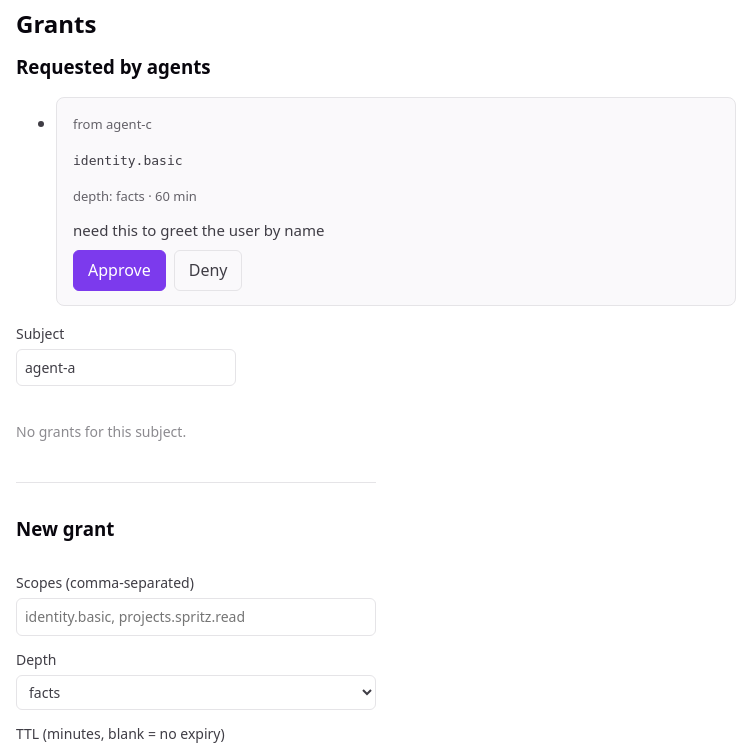
Scenario: GrantsPage › shows pending grant requests from any subject and removes one after approving it
The image size is (753, 749).
Expected: the text "from agent-c" is shown, [73,113,152,136]
Expected: the text "need this to greet the user by name" is shown, [73,220,324,240]
What coordinates should you click on to do the following:
click the button "Approve"
I would click on:
 (119, 270)
Its box is [73,250,166,291].
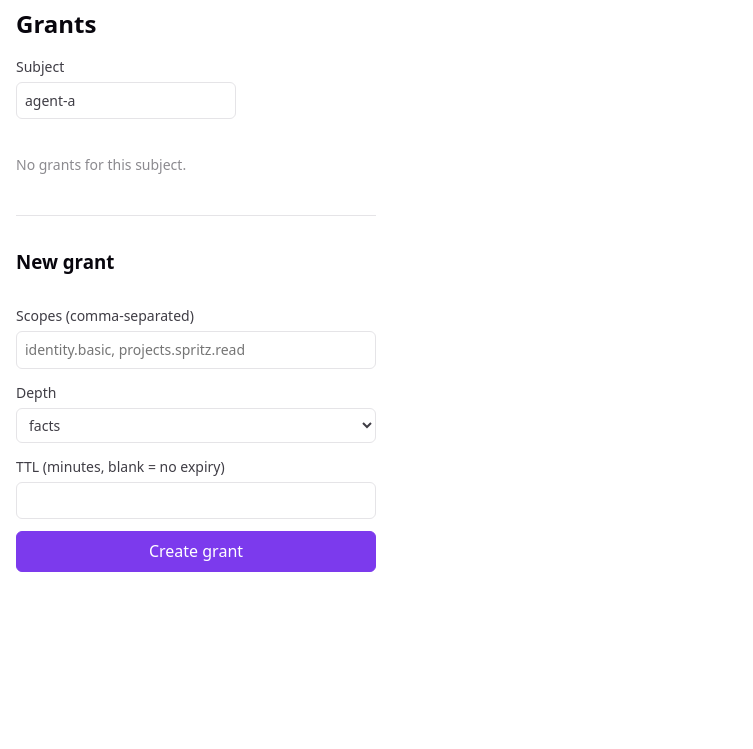
Now the text "from agent-c" is gone
